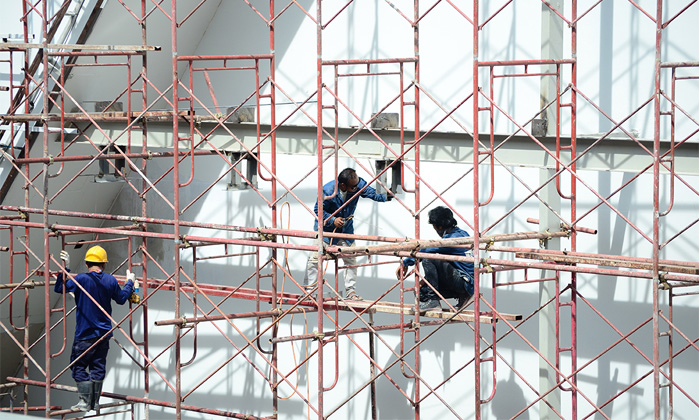epi: (55, 243, 137, 411)
noepi: (312, 166, 395, 314), (401, 203, 479, 312)
